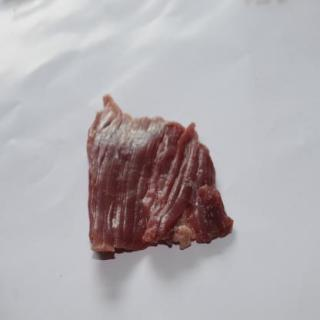Daging Sapi: (89, 100, 236, 254)
